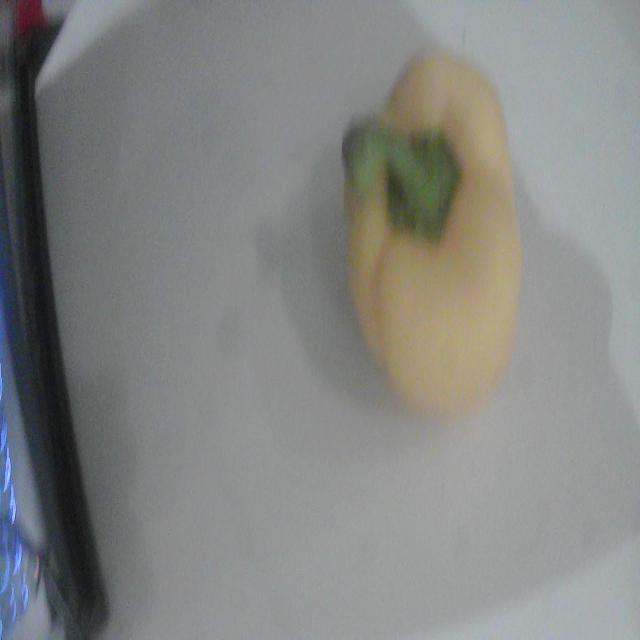Bell Pepper: (344, 54, 521, 416)
